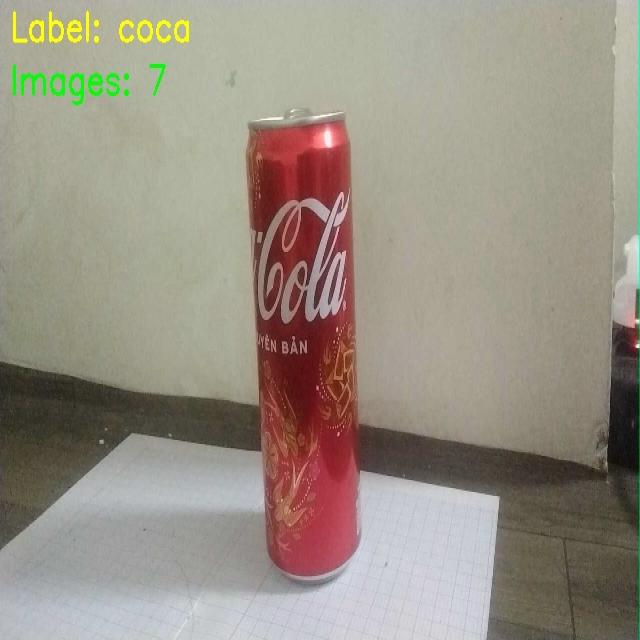Coca: (204, 87, 403, 589)
